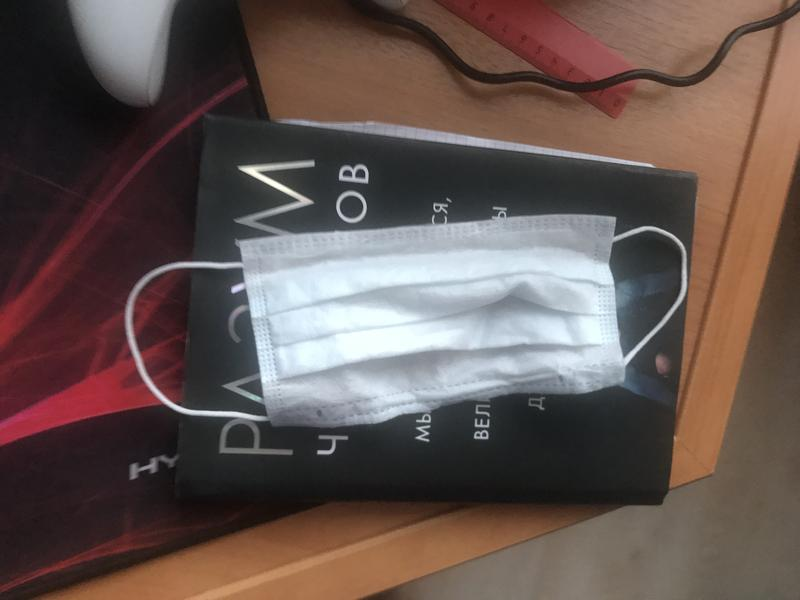medical_mask: (124, 217, 688, 424)
